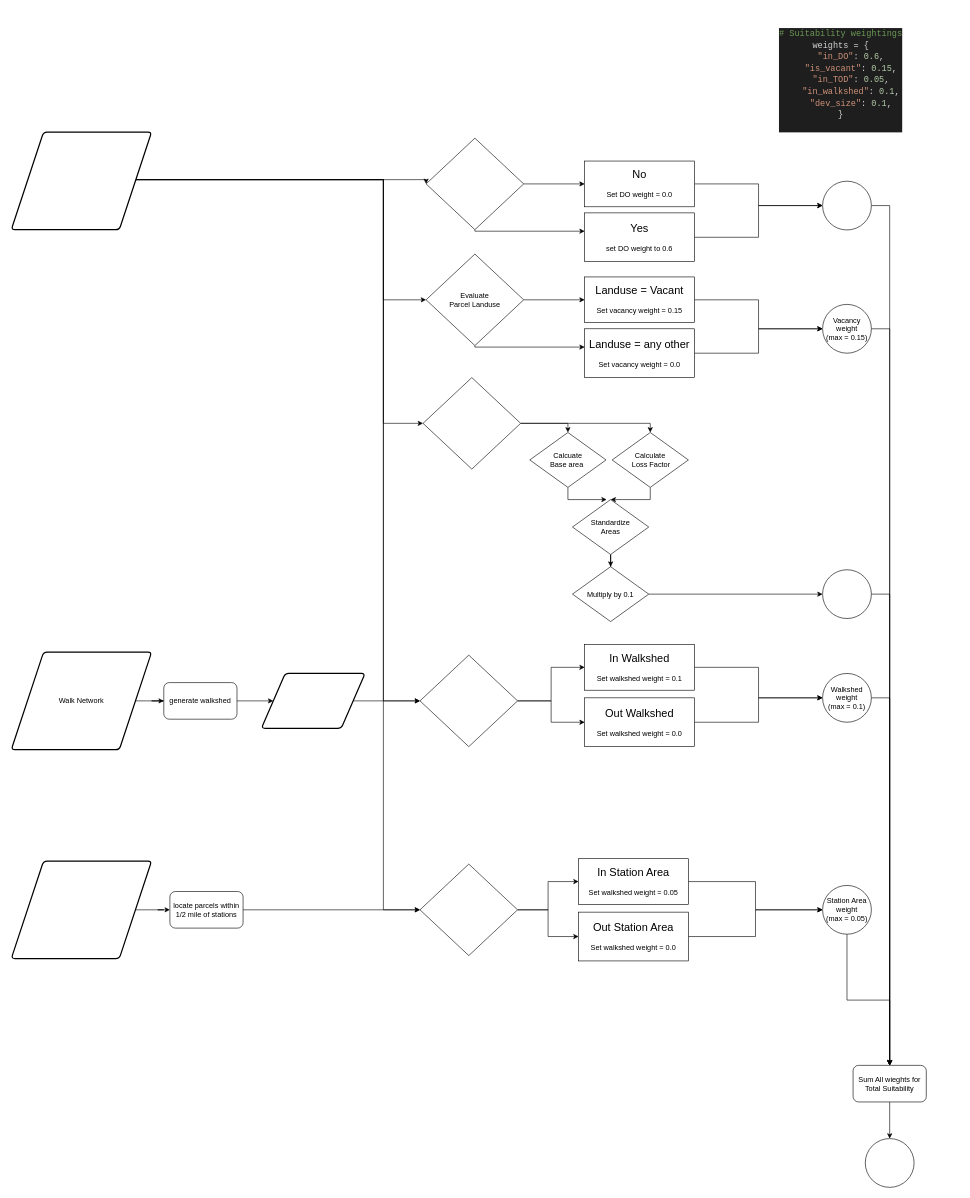
The diagram is 970 pixels wide and 1198 high, and some of its shapes have lost their labels. Here are the shapes that lost their labels. From the top down, the centre of each, then its label:
At point 81,180: "Parcels".
At point 474,184: "Evaluate Parcel Development Opportunity Site".
At point 846,205: "DO weight (max = 0.6)".
At point 471,423: "Calculate Developable Area".
At point 846,594: "DevArea Weight (max = 0.1)".
At point 312,701: "1/4 mile WalkShed".
At point 468,701: "Evaluate Parcel inclusion in Walkshed".
At point 81,909: "Station Locations".
At point 468,909: "Evaluate Parcel Distance to Station".
At point 889,1162: "Total Suitability (max = 1.0)".
